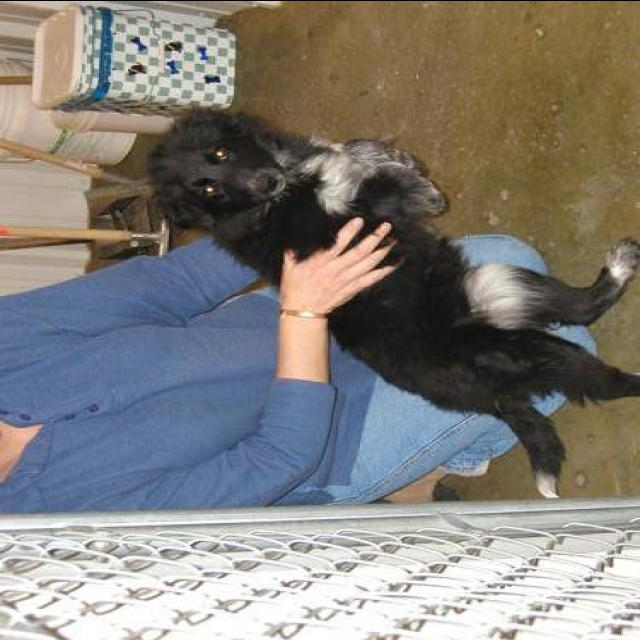dog: (138, 98, 640, 522)
